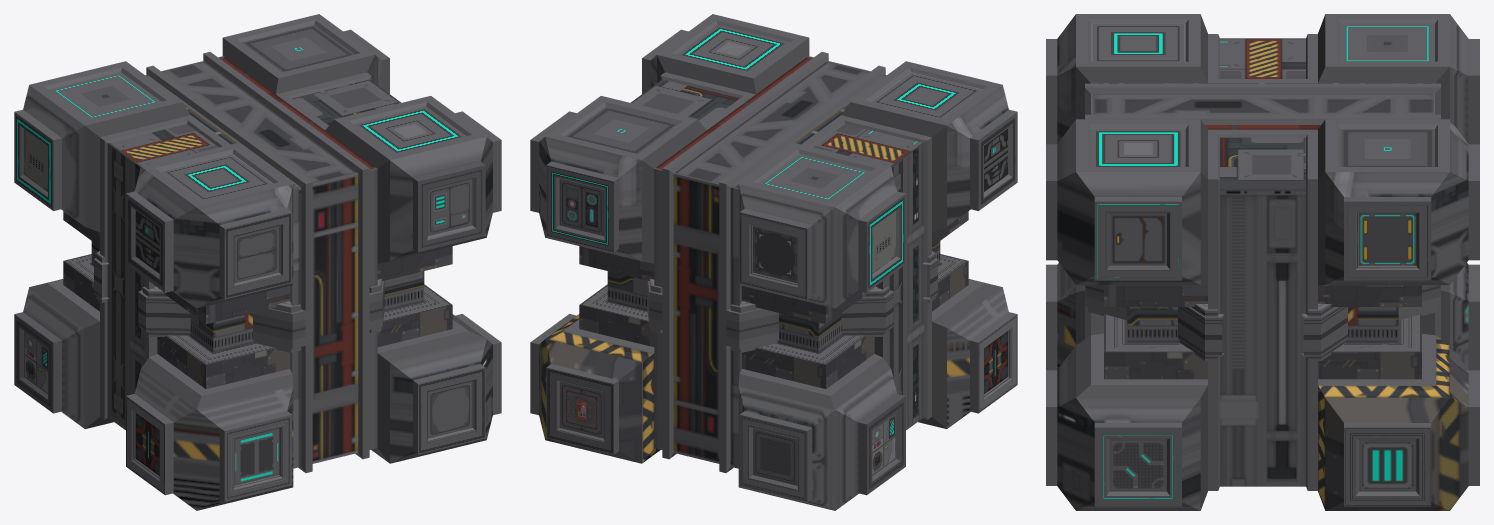
The model's file is SM_Prop_Greeble_Cube_03.fbx.
The picture shows the model from 3 angles, left to right: view 1: azimuth 30°, elevation 25°; view 2: azimuth 150°, elevation 25°; view 3: azimuth 270°, elevation 25°; orthographic projection. The views are drawn at different scales.
Parts seen in each view (by area): view 1: SM_Prop_Greeble_Cube_03; view 2: SM_Prop_Greeble_Cube_03; view 3: SM_Prop_Greeble_Cube_03.
Boxes of the visible parts, x1,y1,x2,y2 form: SM_Prop_Greeble_Cube_03: (14,14,501,510); SM_Prop_Greeble_Cube_03: (530,14,1017,510); SM_Prop_Greeble_Cube_03: (1046,14,1479,510).
Size of the model in its own units: 580 by 500 by 580.
